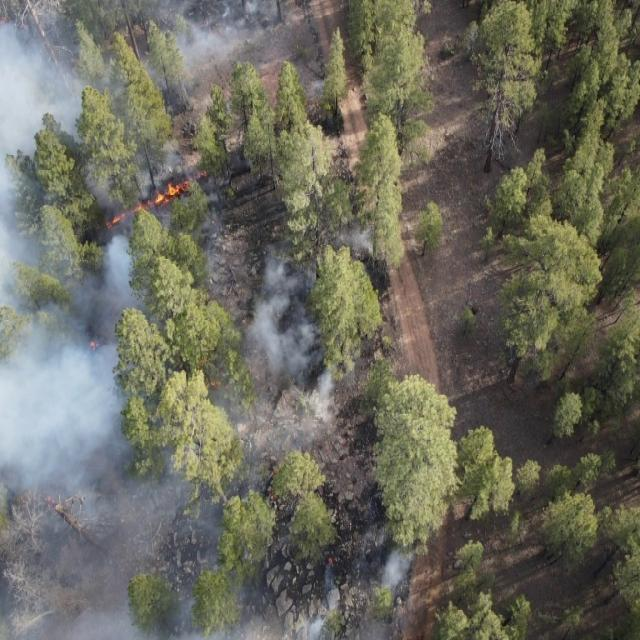fire: (95, 174, 208, 230), (196, 353, 226, 396), (86, 335, 102, 355), (42, 489, 56, 509), (325, 556, 336, 568), (268, 490, 278, 502), (0, 14, 10, 26)
smoke: (0, 270, 154, 640), (0, 0, 302, 126), (0, 126, 217, 270), (155, 530, 416, 640), (157, 390, 350, 530), (250, 225, 373, 389)
